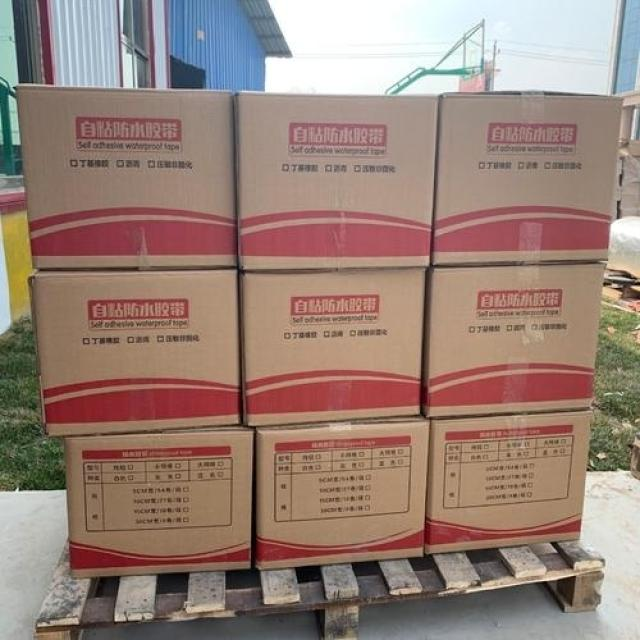box: (14, 85, 239, 271), (235, 90, 440, 271), (31, 270, 241, 437), (433, 90, 624, 267), (241, 269, 425, 427), (421, 262, 605, 417), (66, 427, 252, 579), (252, 420, 428, 571), (425, 411, 591, 558)
